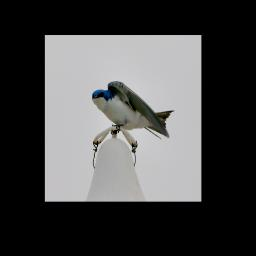Swallow: (92, 81, 175, 142)
